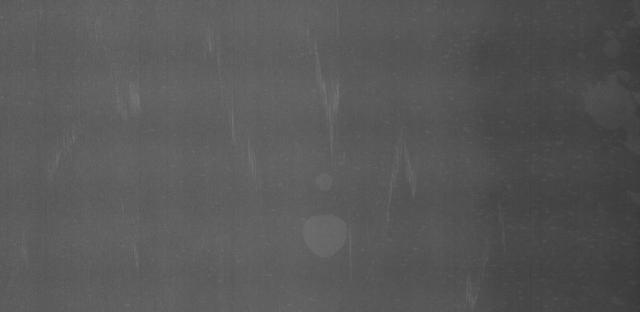silk_spot: (294, 172, 370, 265), (376, 134, 435, 214), (304, 55, 360, 128), (106, 67, 144, 116), (195, 29, 231, 65), (229, 116, 259, 156)
